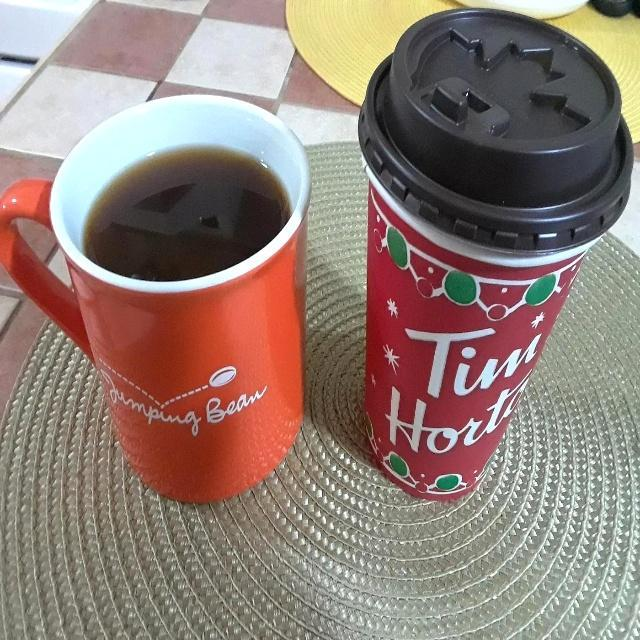timmies: (357, 5, 632, 505)
